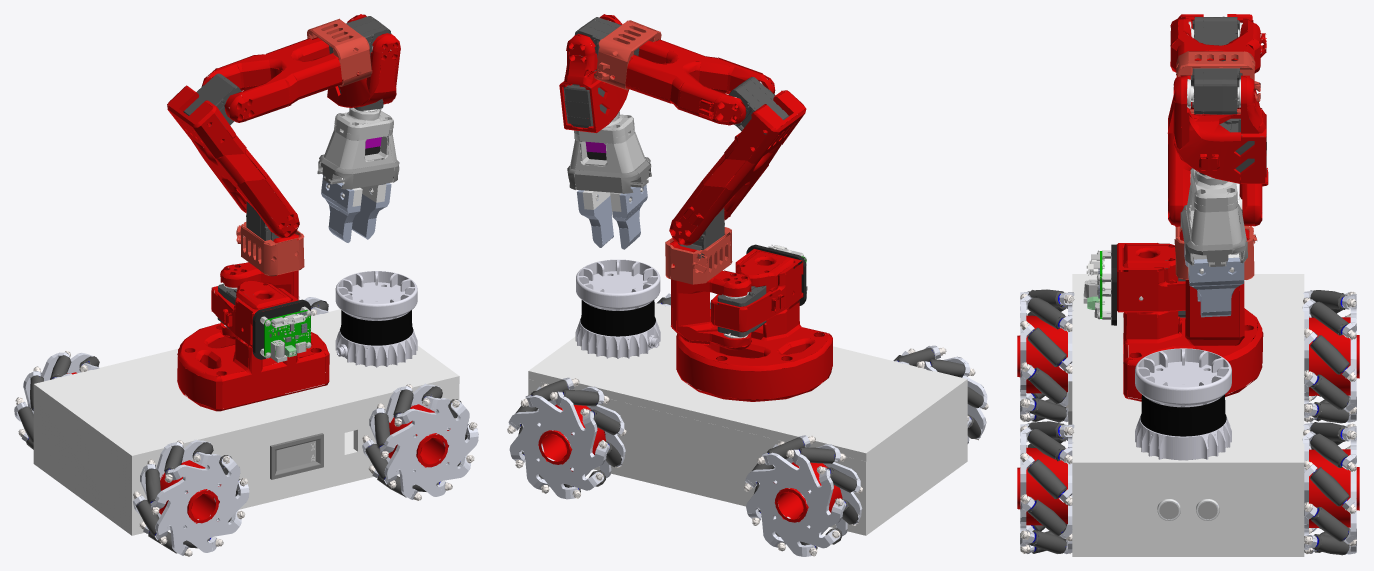
The model's file is fig1_robot.glb.
The picture shows the model from 3 angles, left to right: view 1: azimuth 30°, elevation 25°; view 2: azimuth 150°, elevation 25°; view 3: azimuth 270°, elevation 25°; orthographic projection. The views are drawn at different scales.
Parts seen in each view (by area): view 1: top_arm, base_link, wheel_rf, wheel_rb, front_scan, wheel_lb; view 2: top_arm, base_link, wheel_lf, wheel_lb, front_scan, wheel_rb; view 3: base_link, top_arm, front_scan, wheel_rf, wheel_lf, wheel_lb, wheel_rb.
Part boxes in pixels (box(x1,y1,x2,y2)): top_arm: box(167, 14, 400, 411); base_link: box(33, 309, 459, 535); wheel_rf: box(362, 383, 478, 500); wheel_rb: box(133, 439, 249, 556); front_scan: box(335, 271, 417, 367); wheel_lb: box(14, 351, 99, 449); top_arm: box(559, 14, 832, 401); base_link: box(528, 303, 967, 535); wheel_lf: box(507, 377, 626, 499); wheel_lb: box(743, 435, 862, 556); front_scan: box(575, 259, 660, 358); wheel_rb: box(893, 345, 988, 443); base_link: box(1068, 274, 1304, 556); top_arm: box(1083, 14, 1268, 401); front_scan: box(1135, 348, 1231, 460); wheel_rf: box(1017, 421, 1074, 554); wheel_lf: box(1302, 422, 1359, 555); wheel_lb: box(1302, 290, 1359, 423); wheel_rb: box(1017, 289, 1074, 422).
Bounding box in the file's own units: 0.3022 × 0.3605 × 0.23.
